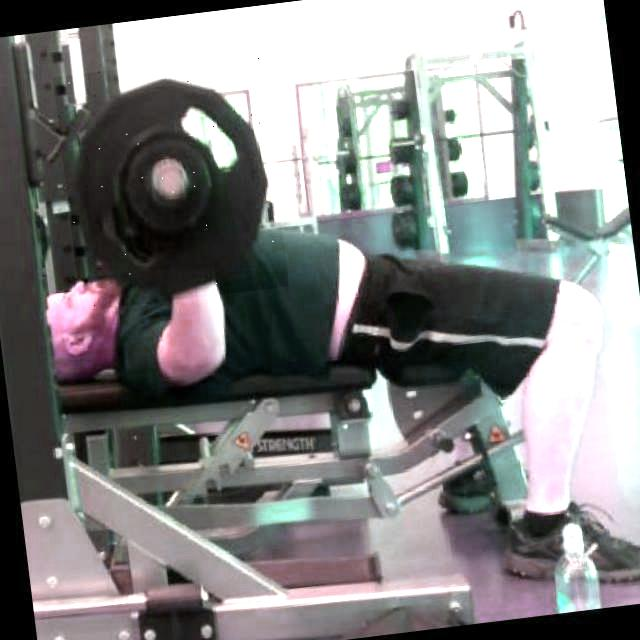barbell: (54, 51, 290, 312)
